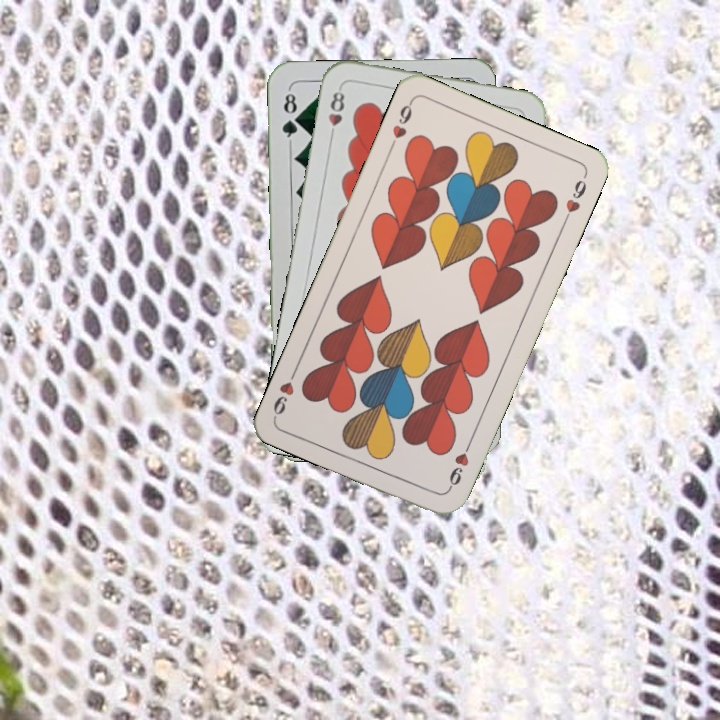G8: (278, 86, 302, 145)
H8: (324, 83, 348, 142)
H9: (385, 96, 416, 153), (444, 437, 474, 494)
